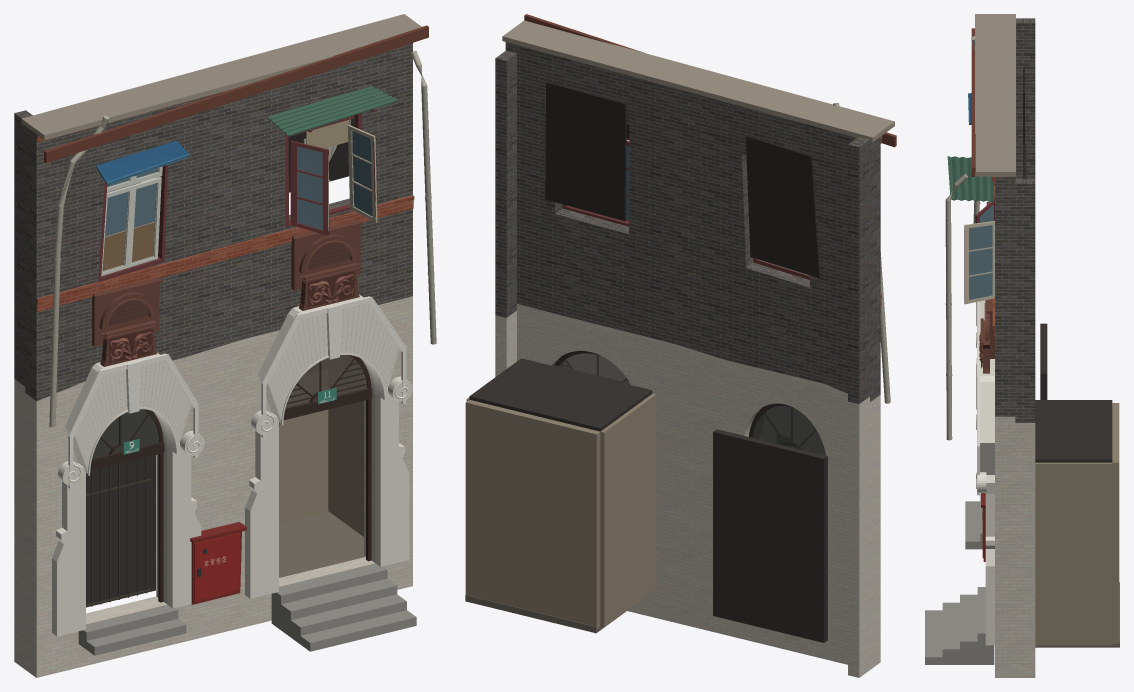
File: hongkou-wujin-225-paired-residential-entrances-web.glb
3 views of the same model, side by side, from view 1: azimuth 30°, elevation 25°; view 2: azimuth 150°, elevation 25°; view 3: azimuth 270°, elevation 25° (orthographic). The views are drawn at different scales.
Parts seen in each view (by area): view 1: 武进路225弄9、11号双券宅门; view 2: 武进路225弄9、11号双券宅门; view 3: 武进路225弄9、11号双券宅门.
Boxes of the visible parts, bbox=[...] form: 武进路225弄9、11号双券宅门: bbox=[14, 14, 436, 677]; 武进路225弄9、11号双券宅门: bbox=[465, 14, 896, 677]; 武进路225弄9、11号双券宅门: bbox=[925, 14, 1119, 677].
Size of the model in its own units: 6.87 by 9.78 by 3.36.
43 materials, 3 textured.
